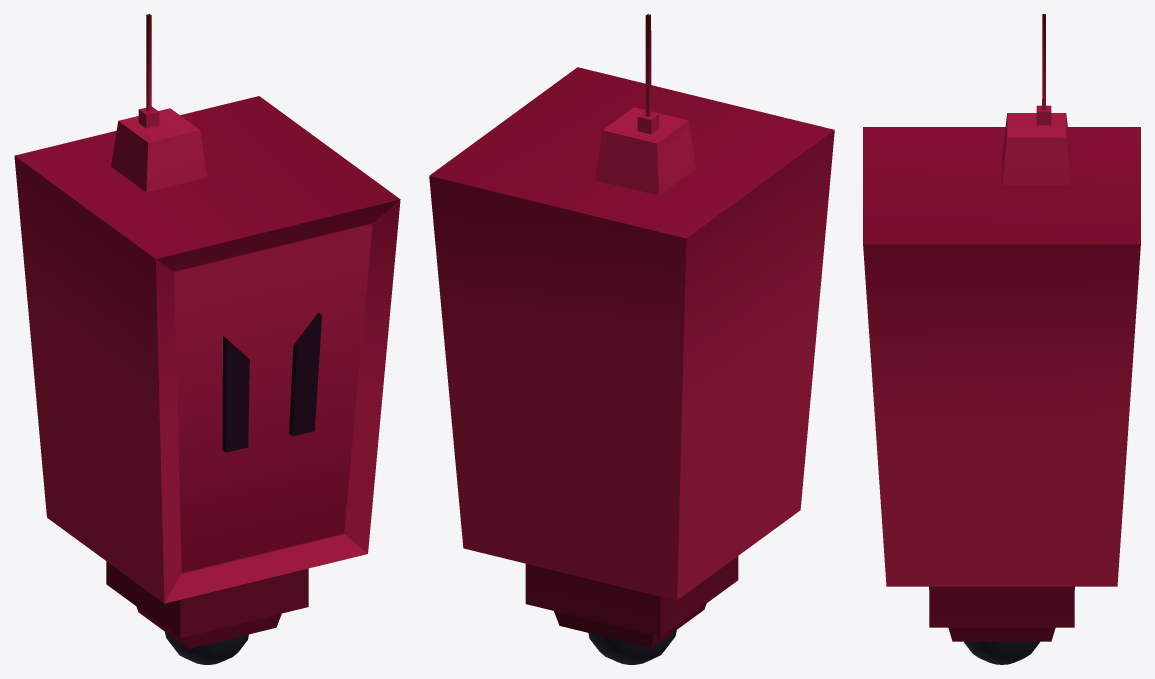
Rendered from EnemyBot.fbx.
3 renders of one model, left to right at view 1: azimuth 30°, elevation 25°; view 2: azimuth 150°, elevation 25°; view 3: azimuth 270°, elevation 25°, orthographic. The views are drawn at different scales.
Visible parts, largest first — view 1: Cube.004; view 2: Cube.004; view 3: Cube.004.
Boxes of the visible parts, bbox=[...] form: Cube.004: bbox=[14, 14, 400, 664]; Cube.004: bbox=[429, 14, 834, 664]; Cube.004: bbox=[863, 14, 1140, 664].
Bounding box in the file's own units: 107 × 268 × 107.
Materials: 1 (1 with a texture image).
